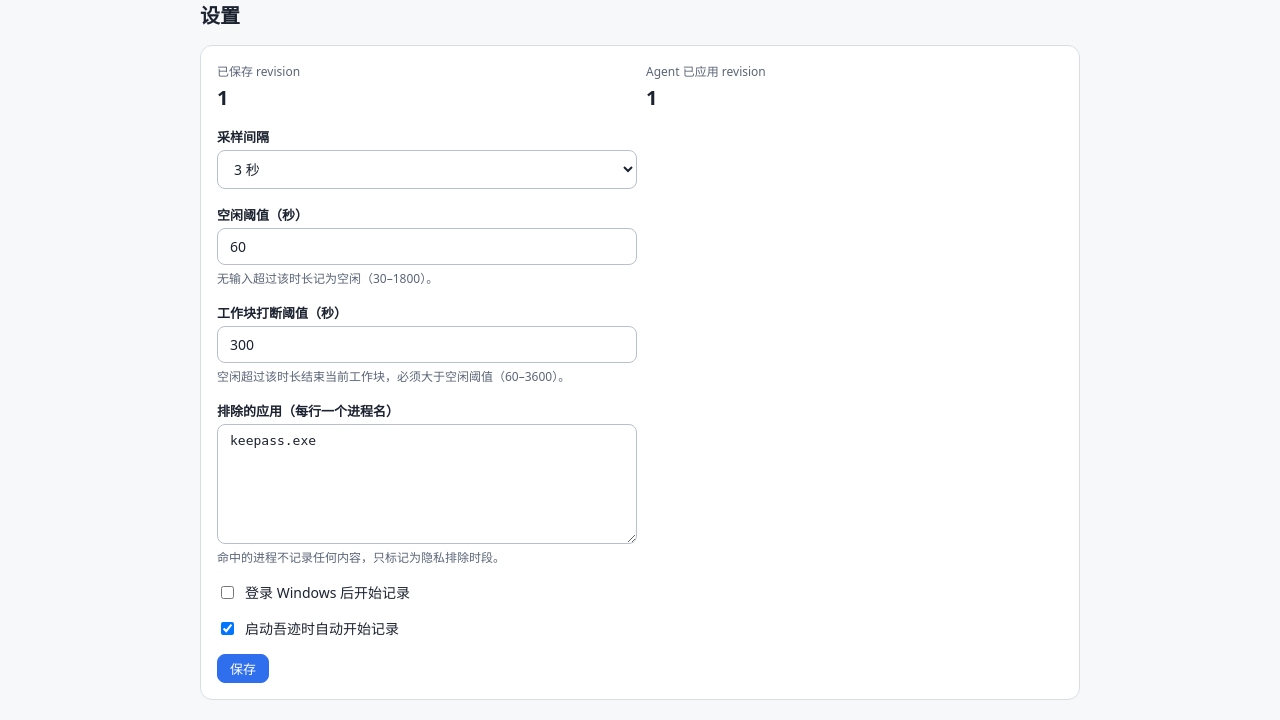
Scenario: Settings 页面 › 两者都改且偏好保存失败时，Settings 成功仍被确认
Select "5 秒" in the dropdown labelled "采样间隔" at coordinates (427, 170), box [217,150,637,189]
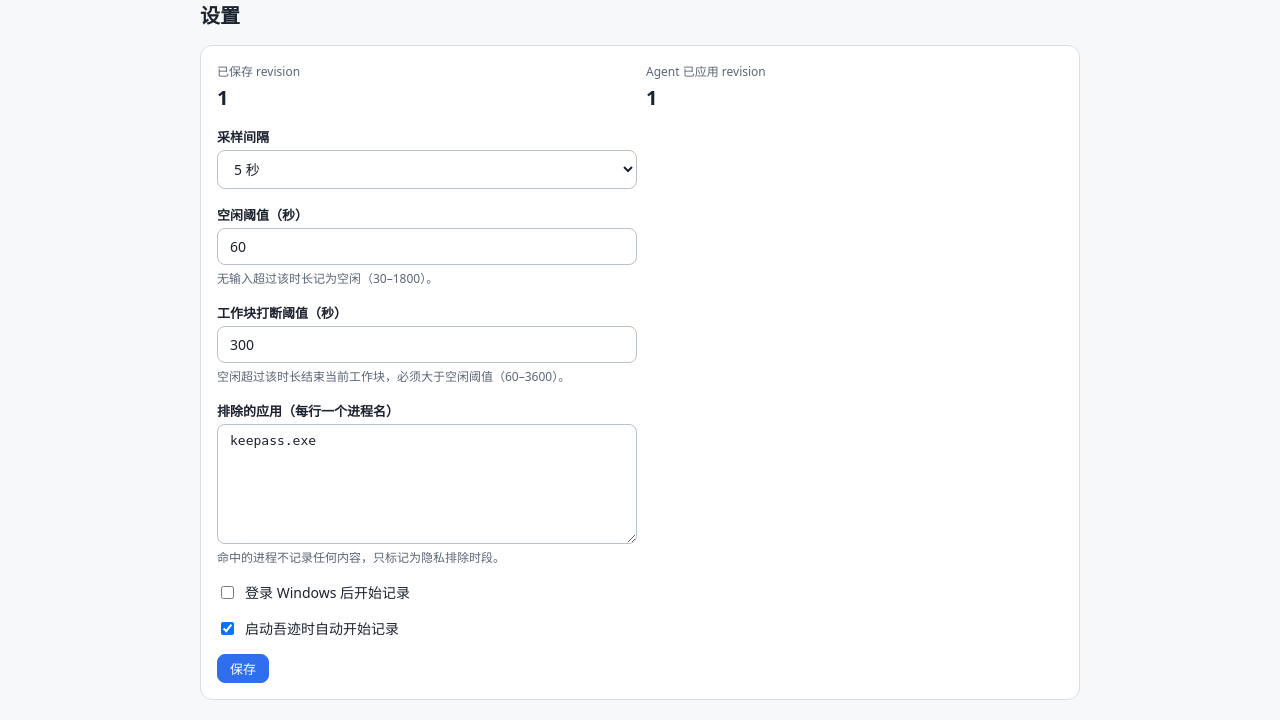
Click the checkbox labelled "启动吾迹时自动开始记录" at coordinates (228, 628), box [221,622,234,634]
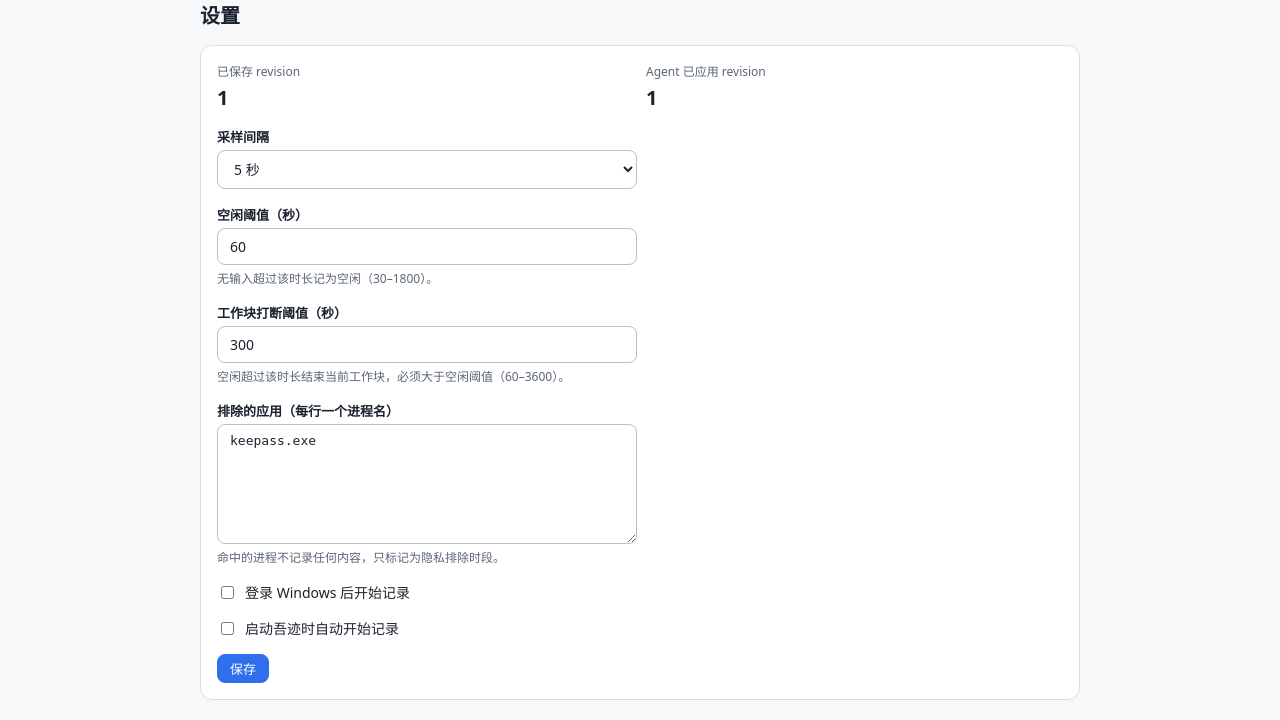
Click the button "保存" at coordinates (243, 668), box [217,654,269,683]
(page scrolled)
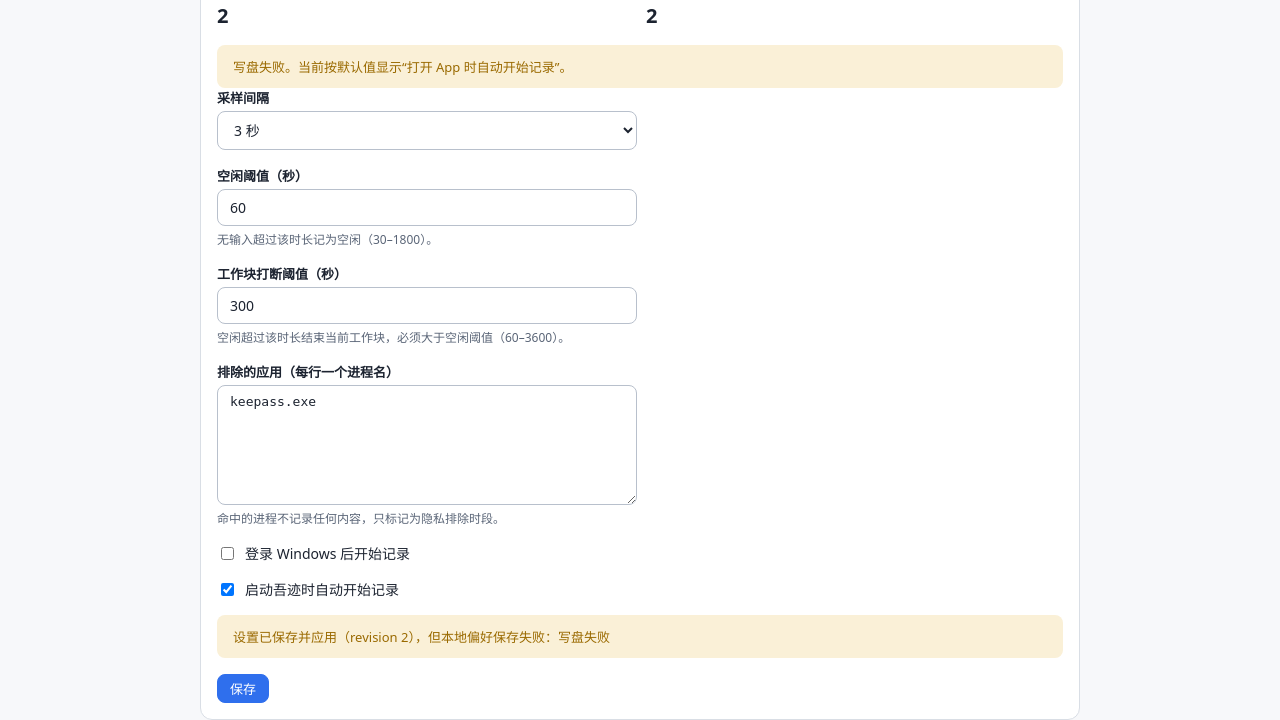
Now the message shows "设置已保存并应用（revision 2），但本地偏好保存失败", box [233,628,610,646]
